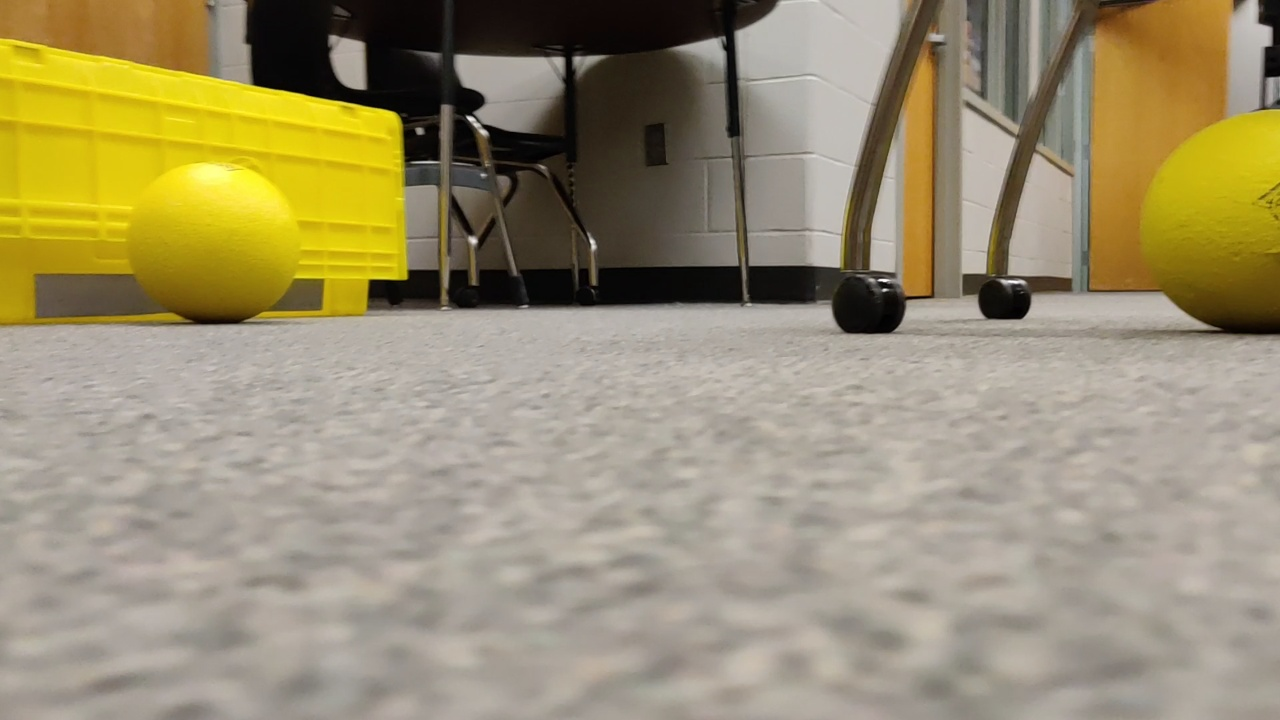Ball: (1140, 102, 1280, 335), (113, 158, 299, 319)
